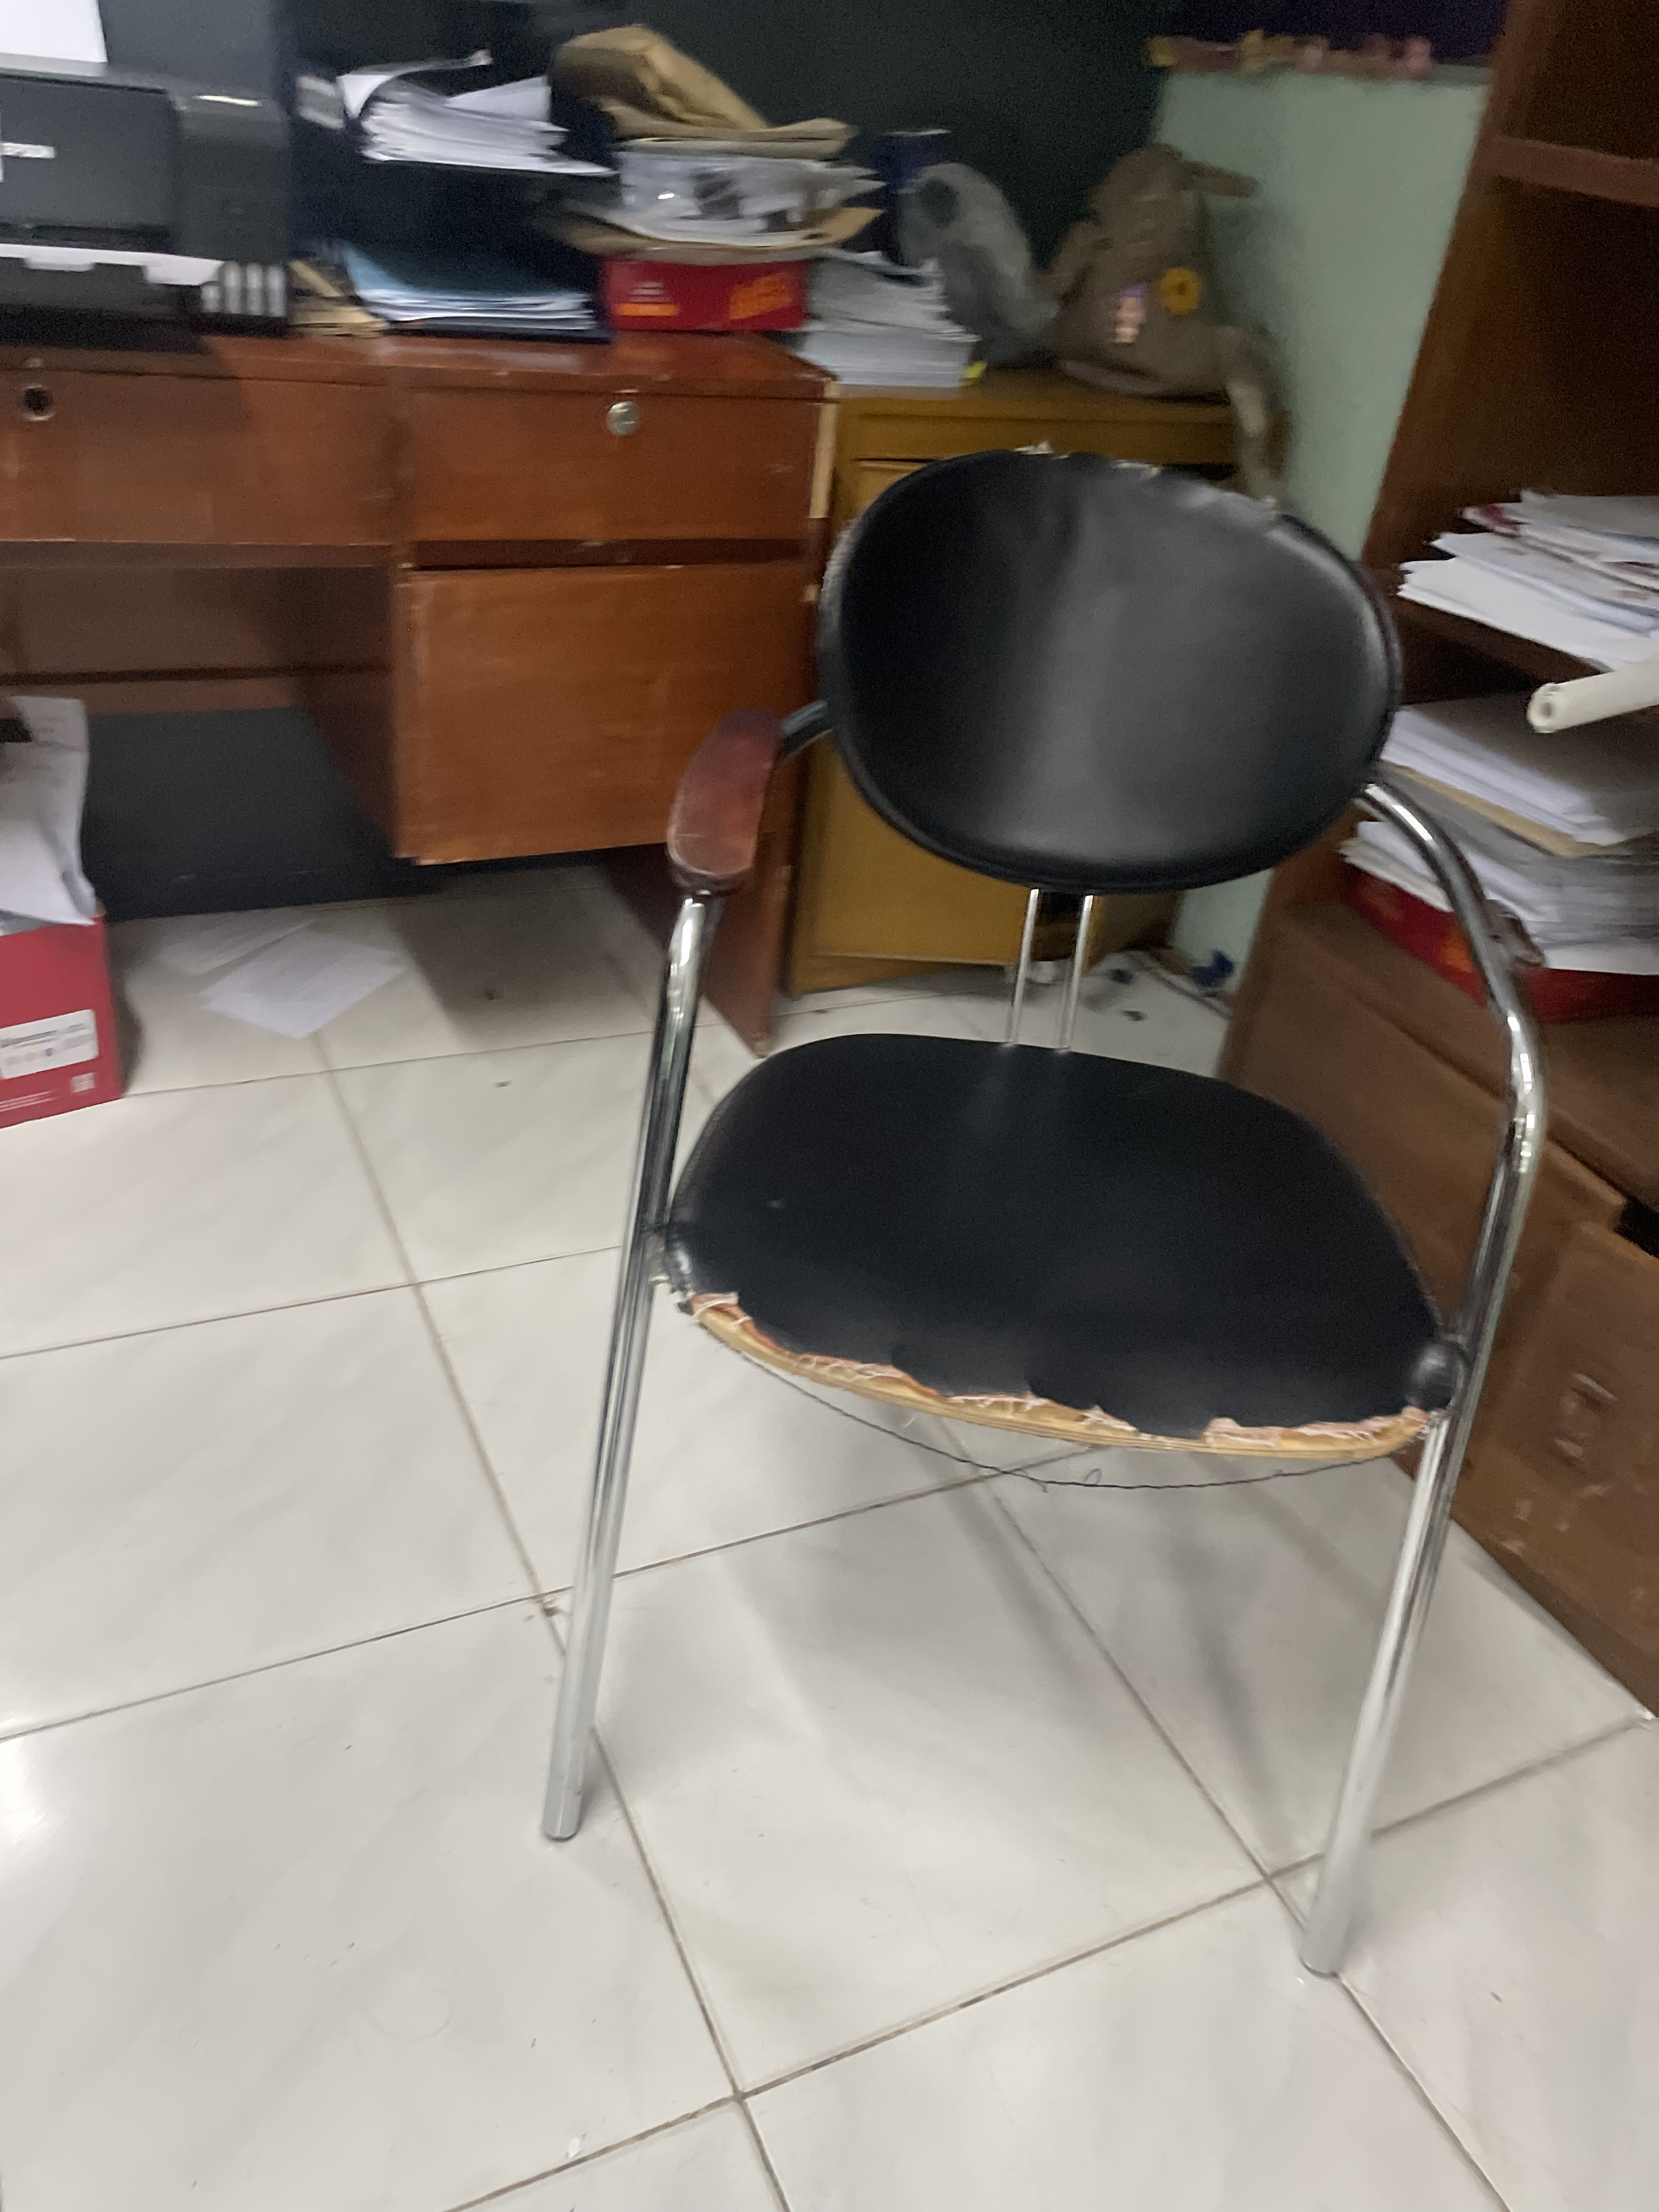chair1: (532, 446, 1556, 1979)
